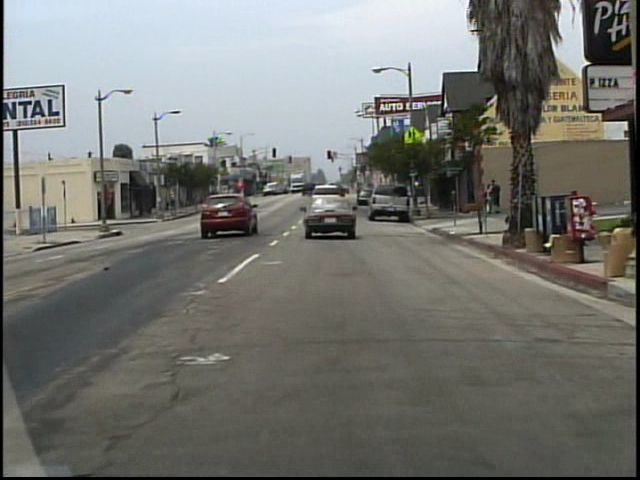person: (490, 179, 502, 216), (486, 183, 490, 215)
